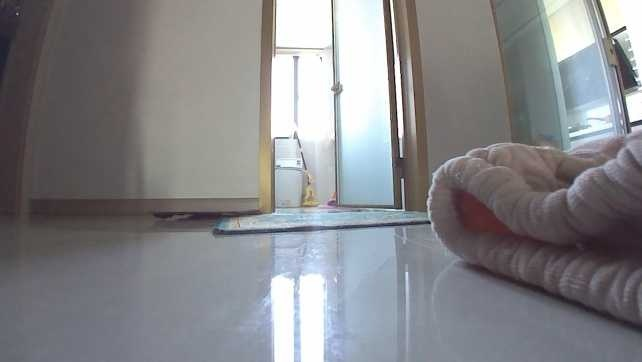blanket: (212, 206, 444, 232)
door_anno: (325, 0, 405, 207)
toilet: (274, 155, 306, 208)
